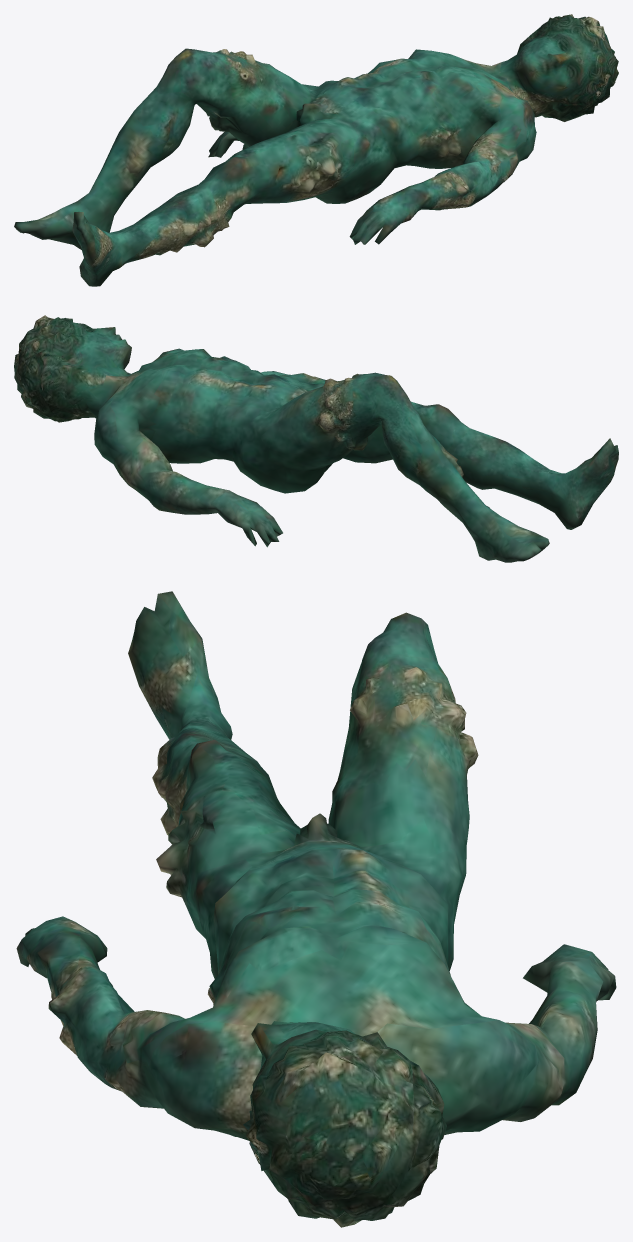
File: bronze_statue.glb
3 renders of one model, top to bottom at view 1: azimuth 30°, elevation 25°; view 2: azimuth 150°, elevation 25°; view 3: azimuth 270°, elevation 25°, orthographic. The views are drawn at different scales.
Visible parts, largest first — view 1: tripo_node_25ccd397-f94c-4614-8f3e-a05cb4b4a7bd; view 2: tripo_node_25ccd397-f94c-4614-8f3e-a05cb4b4a7bd; view 3: tripo_node_25ccd397-f94c-4614-8f3e-a05cb4b4a7bd.
Boxes of the visible parts, bbox=[...] form: tripo_node_25ccd397-f94c-4614-8f3e-a05cb4b4a7bd: bbox=[14, 14, 618, 286]; tripo_node_25ccd397-f94c-4614-8f3e-a05cb4b4a7bd: bbox=[14, 315, 618, 562]; tripo_node_25ccd397-f94c-4614-8f3e-a05cb4b4a7bd: bbox=[16, 591, 616, 1227].
Bounding box in the file's own units: 0.98 × 0.2799 × 0.4614.
Materials: 1 (1 with a texture image).
